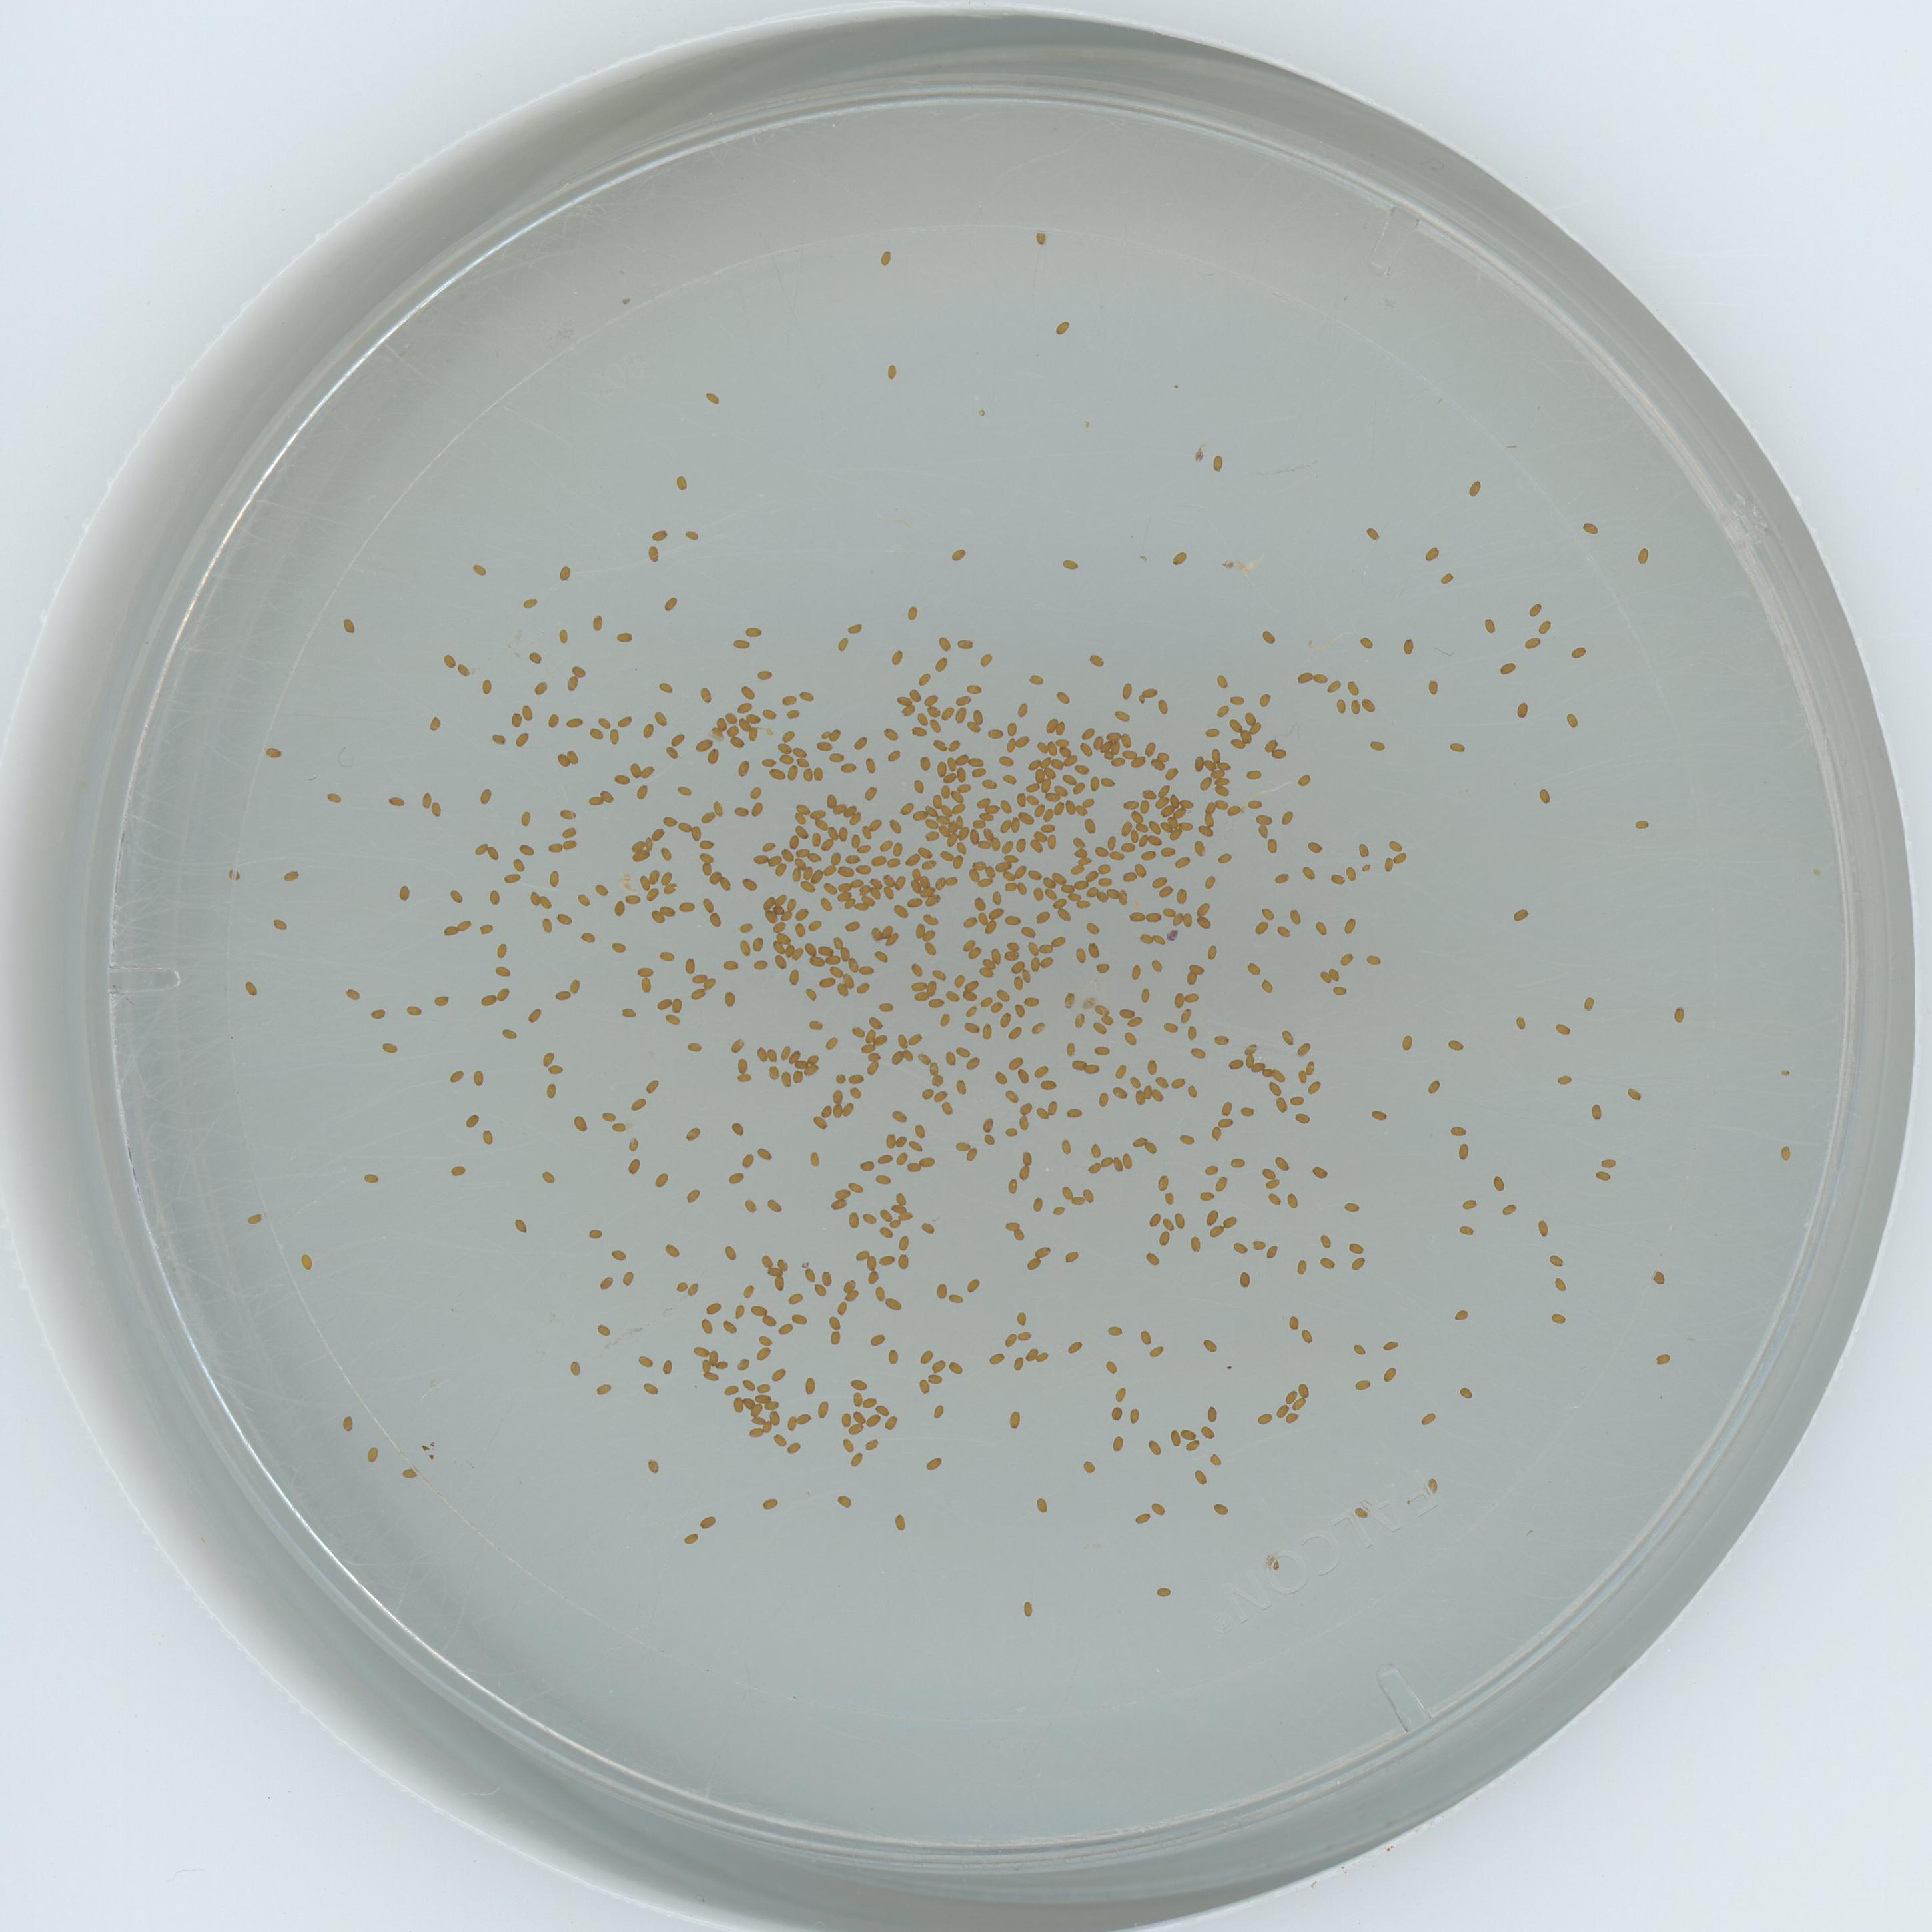seed: (633, 784, 653, 801), (740, 683, 759, 701), (695, 736, 715, 754), (571, 1113, 591, 1131), (623, 1157, 642, 1175), (890, 1513, 909, 1530), (1001, 911, 1021, 929), (1017, 924, 1037, 941), (987, 1348, 1007, 1366), (1235, 1269, 1254, 1286), (1453, 1141, 1472, 1159), (653, 709, 671, 727), (662, 594, 679, 612), (556, 909, 573, 927), (888, 817, 906, 835), (616, 628, 633, 646), (646, 545, 663, 563), (863, 757, 881, 775), (697, 685, 715, 702), (476, 787, 494, 805), (699, 1513, 717, 1530), (741, 1281, 759, 1299), (448, 1065, 465, 1083), (771, 1364, 789, 1382), (803, 1376, 821, 1394), (924, 1454, 941, 1472), (862, 1208, 879, 1226), (363, 1445, 380, 1463), (812, 1113, 830, 1131), (1582, 518, 1599, 536), (1258, 628, 1276, 646), (1194, 901, 1212, 918), (1465, 479, 1483, 497), (1169, 548, 1187, 566), (1007, 1410, 1024, 1428), (1272, 1152, 1290, 1169), (1534, 1219, 1552, 1237), (1146, 1343, 1164, 1361), (1490, 1173, 1507, 1191), (817, 899, 837, 915), (340, 617, 359, 633), (844, 918, 863, 934), (849, 1375, 869, 1391), (628, 1093, 648, 1109), (704, 1299, 724, 1315), (844, 1212, 863, 1228), (1033, 909, 1053, 925), (1039, 1077, 1058, 1093), (1288, 1090, 1307, 1106), (1380, 1366, 1399, 1382), (1109, 1083, 1129, 1099), (1279, 1030, 1299, 1046), (1116, 1003, 1136, 1019), (994, 1012, 1014, 1028), (741, 878, 759, 893), (271, 916, 288, 932), (580, 929, 598, 945), (678, 897, 695, 913), (396, 885, 412, 902), (890, 649, 908, 665), (538, 895, 556, 911), (387, 793, 405, 809), (513, 731, 531, 747), (616, 713, 633, 729), (745, 623, 763, 639), (651, 527, 669, 543), (878, 248, 895, 264), (736, 761, 754, 777), (545, 872, 563, 888), (575, 893, 593, 909), (830, 750, 847, 766), (899, 800, 916, 816), (704, 750, 722, 766), (782, 692, 800, 708), (853, 736, 870, 752), (883, 725, 901, 741), (545, 713, 563, 729), (674, 474, 692, 490), (490, 731, 508, 747), (932, 656, 950, 672), (810, 805, 828, 821), (518, 842, 536, 858), (559, 807, 577, 823), (510, 858, 527, 874), (936, 635, 954, 651), (533, 679, 550, 695), (589, 616, 607, 632), (750, 801, 768, 817), (778, 729, 796, 745), (566, 715, 584, 731), (471, 840, 488, 856), (931, 736, 948, 752), (416, 793, 432, 810), (906, 895, 924, 911), (874, 948, 892, 964), (833, 635, 851, 651), (485, 890, 502, 906), (752, 853, 770, 869), (517, 812, 534, 828), (863, 786, 881, 801), (471, 561, 488, 577), (748, 786, 766, 801), (732, 805, 750, 821), (821, 837, 837, 855), (600, 787, 617, 803), (736, 939, 754, 955), (794, 800, 812, 816), (817, 943, 835, 959), (264, 745, 281, 761), (757, 1330, 775, 1346), (540, 1047, 557, 1063), (690, 985, 708, 1001), (886, 1295, 904, 1311), (543, 1081, 561, 1097), (867, 1012, 885, 1028), (879, 1224, 897, 1240), (897, 1253, 913, 1270), (893, 1150, 911, 1166), (405, 1001, 423, 1017), (786, 1440, 803, 1456), (911, 1122, 929, 1138), (642, 1380, 660, 1396), (870, 1330, 888, 1346), (449, 1161, 467, 1177), (729, 1122, 747, 1138), (874, 1283, 890, 1300), (653, 1169, 669, 1187), (361, 1169, 379, 1185), (892, 1106, 909, 1122), (849, 1453, 867, 1468), (685, 1127, 702, 1143), (663, 1242, 681, 1258), (566, 1359, 584, 1375), (791, 1309, 809, 1325), (525, 1007, 543, 1023), (878, 998, 895, 1014), (343, 987, 361, 1003), (722, 1320, 740, 1336), (885, 1414, 902, 1430), (886, 1348, 904, 1364), (757, 1145, 775, 1161), (642, 1077, 660, 1093), (750, 1300, 768, 1316), (729, 1039, 747, 1054), (740, 1154, 757, 1169), (610, 1246, 628, 1261), (736, 1355, 754, 1371), (699, 1318, 717, 1334), (947, 1359, 964, 1375), (837, 1491, 853, 1509), (672, 1277, 690, 1293), (840, 1437, 858, 1453), (660, 1357, 676, 1375), (763, 1493, 780, 1509), (862, 1392, 879, 1408), (849, 1069, 867, 1085), (761, 1313, 778, 1329), (1244, 796, 1261, 812), (1345, 679, 1362, 695), (1258, 906, 1276, 922), (1286, 909, 1304, 925), (1053, 318, 1070, 334), (1569, 644, 1587, 660), (996, 754, 1014, 770), (1012, 702, 1030, 718), (1139, 683, 1157, 699), (1311, 920, 1329, 936), (1244, 766, 1261, 782), (1173, 856, 1191, 872), (1368, 738, 1385, 754), (1060, 556, 1077, 571), (1361, 695, 1376, 713), (1215, 851, 1233, 867), (1513, 906, 1530, 922), (1536, 619, 1553, 635), (1422, 545, 1440, 561), (1306, 840, 1323, 856), (1338, 948, 1355, 964), (1564, 713, 1582, 729), (1085, 941, 1100, 959), (1127, 908, 1145, 924), (1116, 683, 1134, 699), (1499, 660, 1516, 676), (1525, 635, 1543, 651), (1536, 789, 1553, 805), (1274, 924, 1292, 939), (1152, 699, 1169, 715), (1053, 690, 1070, 706), (996, 798, 1014, 814), (1171, 888, 1189, 904), (1023, 938, 1039, 955), (1148, 957, 1164, 975), (1201, 1159, 1219, 1175), (1348, 1254, 1366, 1270), (1024, 1254, 1042, 1270), (1212, 1500, 1230, 1516), (1447, 1037, 1465, 1053), (1346, 1238, 1364, 1254), (1030, 1021, 1047, 1037), (1461, 1194, 1479, 1210), (1453, 1306, 1470, 1322), (1031, 1497, 1049, 1513), (1003, 1088, 1021, 1104), (1145, 1438, 1162, 1454), (1031, 1063, 1049, 1079), (1003, 1177, 1021, 1192), (1060, 993, 1077, 1008), (1316, 1233, 1334, 1249), (1424, 1477, 1440, 1495), (1201, 1210, 1219, 1226), (1007, 1056, 1024, 1072), (1555, 1069, 1573, 1085), (1141, 1058, 1159, 1074), (1065, 1338, 1083, 1353), (1265, 1191, 1283, 1207), (1012, 1070, 1030, 1086), (1589, 1102, 1606, 1118), (1272, 1095, 1290, 1111), (1421, 1408, 1438, 1424), (1108, 1435, 1125, 1451), (1033, 1242, 1051, 1258), (1010, 1001, 1028, 1017), (1309, 1162, 1327, 1178), (1449, 1122, 1467, 1138), (1318, 1254, 1336, 1270), (1198, 1424, 1215, 1440), (1083, 1060, 1100, 1076), (1295, 1042, 1313, 1058), (1230, 1238, 1247, 1254), (1293, 1109, 1311, 1125), (1398, 1035, 1415, 1051), (1143, 1249, 1161, 1265), (1548, 1253, 1566, 1269), (1092, 1039, 1109, 1054), (1343, 1198, 1361, 1214), (1651, 1269, 1668, 1284), (1063, 1104, 1081, 1120), (966, 1276, 982, 1293), (1511, 1014, 1529, 1030), (1111, 1062, 1129, 1077), (1182, 971, 1200, 987), (761, 706, 780, 720), (833, 1187, 853, 1201), (1157, 846, 1177, 860), (708, 911, 724, 927), (761, 837, 777, 853), (929, 718, 945, 734), (564, 676, 580, 692), (441, 653, 456, 669), (770, 768, 786, 784), (701, 897, 717, 913), (556, 564, 571, 580), (909, 685, 925, 701), (651, 828, 667, 844), (947, 736, 962, 752), (734, 637, 750, 653), (671, 731, 686, 747), (761, 754, 777, 770), (924, 692, 939, 708), (662, 812, 678, 828), (918, 755, 934, 771), (893, 904, 909, 920), (794, 743, 810, 759), (658, 679, 674, 695), (448, 890, 464, 906), (556, 628, 571, 644), (888, 748, 904, 764), (571, 662, 587, 678), (586, 794, 602, 810), (701, 810, 717, 826), (487, 846, 502, 862), (610, 901, 626, 916), (426, 715, 442, 731), (839, 863, 855, 879), (740, 918, 755, 934), (478, 920, 494, 936), (663, 747, 679, 763), (563, 839, 579, 855), (885, 363, 901, 379), (538, 916, 554, 932), (640, 724, 656, 740), (823, 793, 839, 809), (508, 713, 524, 729), (904, 605, 920, 621), (720, 878, 736, 893), (750, 936, 766, 952), (646, 888, 662, 904), (916, 844, 932, 860), (805, 939, 821, 955), (566, 750, 582, 766), (554, 754, 570, 770), (713, 801, 729, 817), (828, 849, 844, 865), (635, 876, 651, 892), (709, 727, 725, 743), (663, 883, 679, 899), (909, 879, 925, 895), (479, 991, 495, 1007), (809, 1016, 824, 1031), (849, 1023, 865, 1039), (242, 980, 258, 996), (725, 1380, 741, 1396), (920, 1083, 936, 1099), (685, 1529, 701, 1545), (771, 1433, 787, 1449), (881, 1251, 897, 1267), (724, 1244, 740, 1260), (729, 1169, 745, 1185), (931, 1357, 947, 1373), (646, 1458, 662, 1474), (471, 1067, 487, 1083), (692, 1341, 708, 1357), (824, 1033, 840, 1049), (918, 1346, 934, 1362), (821, 1270, 837, 1286), (380, 1037, 396, 1053), (909, 1136, 925, 1152), (621, 1003, 637, 1019), (688, 1281, 704, 1297), (849, 1083, 865, 1099), (541, 1168, 557, 1184), (596, 1322, 612, 1338), (598, 1276, 614, 1292), (856, 980, 872, 996), (474, 1139, 490, 1155), (816, 1401, 832, 1417), (828, 1315, 844, 1330), (920, 1152, 936, 1168), (587, 1224, 603, 1240), (479, 1129, 495, 1145), (847, 1180, 863, 1196), (934, 1283, 950, 1299), (915, 1378, 931, 1394), (945, 987, 961, 1003), (686, 1039, 702, 1054), (602, 1106, 617, 1122), (626, 1136, 642, 1152), (832, 1198, 847, 1214), (734, 1058, 750, 1074), (807, 1152, 823, 1168), (639, 977, 655, 993), (513, 1217, 529, 1233), (803, 987, 819, 1003), (787, 970, 803, 985), (931, 1403, 947, 1419), (812, 1283, 828, 1299), (909, 962, 925, 978), (828, 1329, 844, 1345), (895, 1233, 911, 1249), (837, 1300, 853, 1316), (939, 1099, 955, 1115), (888, 1049, 904, 1065), (853, 1408, 869, 1424), (1527, 602, 1543, 617), (1115, 708, 1131, 724), (1438, 570, 1454, 586), (1364, 525, 1380, 541), (1341, 918, 1357, 934), (1207, 747, 1223, 763), (1300, 867, 1316, 883), (1256, 692, 1272, 708), (1635, 548, 1651, 564), (987, 725, 1003, 741), (1001, 771, 1017, 787), (1481, 617, 1497, 633), (977, 653, 993, 669), (1042, 718, 1058, 734), (1343, 867, 1359, 883), (1123, 796, 1139, 812), (971, 897, 987, 913), (1366, 950, 1382, 966), (1392, 853, 1408, 869), (1122, 869, 1138, 885), (1253, 920, 1269, 936), (1424, 679, 1440, 695), (1330, 697, 1346, 713), (1228, 692, 1244, 708), (1449, 740, 1465, 755), (1325, 678, 1341, 694), (1214, 674, 1230, 690), (1357, 635, 1373, 651), (1514, 702, 1530, 718), (1196, 915, 1212, 931), (1028, 867, 1044, 883), (1116, 823, 1132, 839), (1017, 810, 1033, 826), (1226, 718, 1242, 734), (1031, 230, 1047, 246), (1136, 798, 1152, 814), (1028, 839, 1044, 855), (1056, 720, 1072, 736), (1010, 793, 1026, 809), (1261, 736, 1277, 752), (977, 876, 993, 892), (1223, 1212, 1238, 1228), (1120, 1028, 1136, 1044), (1555, 1021, 1571, 1037), (1154, 1173, 1169, 1189), (1012, 1309, 1028, 1325), (1284, 1315, 1300, 1330), (1184, 1026, 1200, 1042), (1108, 1405, 1123, 1421), (1028, 1196, 1044, 1212), (1150, 1500, 1166, 1516), (1184, 989, 1200, 1005), (1021, 1601, 1037, 1617), (1136, 987, 1152, 1003), (1017, 1099, 1033, 1115), (1154, 1072, 1169, 1088), (1171, 993, 1187, 1008), (1106, 1322, 1122, 1338), (1049, 1201, 1065, 1217), (1001, 1332, 1017, 1348), (1214, 1177, 1230, 1192), (1187, 1235, 1203, 1251), (1601, 1152, 1617, 1168), (1284, 1191, 1300, 1207), (1672, 1007, 1688, 1023), (1214, 1031, 1230, 1047), (1162, 1019, 1178, 1035), (1125, 1407, 1141, 1422), (1299, 1327, 1315, 1343), (993, 1067, 1008, 1083), (1191, 1468, 1207, 1484), (1656, 1350, 1672, 1366), (1352, 1504, 1368, 1520), (1371, 1108, 1387, 1123), (1293, 1258, 1309, 1274), (1155, 1230, 1171, 1246), (1136, 1329, 1152, 1345), (1185, 1083, 1201, 1099), (1017, 1164, 1033, 1180), (1306, 1077, 1322, 1093), (1155, 1582, 1171, 1598), (980, 1023, 996, 1039), (1203, 1405, 1219, 1421), (1145, 1210, 1161, 1226), (1058, 1138, 1074, 1154), (1458, 1385, 1474, 1401), (1007, 1026, 1023, 1042), (1201, 1338, 1217, 1353), (1352, 1341, 1368, 1357), (1017, 1148, 1033, 1164), (1458, 1221, 1474, 1237), (1056, 1182, 1072, 1198), (1552, 1276, 1568, 1292), (1217, 1100, 1233, 1116), (1251, 1235, 1267, 1251), (1238, 1100, 1254, 1116), (1062, 1247, 1077, 1263), (1256, 1410, 1272, 1426), (1207, 1451, 1223, 1467), (1628, 1085, 1644, 1100), (1198, 1187, 1214, 1203), (1062, 1039, 1077, 1054), (964, 1019, 980, 1035), (1109, 1385, 1125, 1401), (1778, 1146, 1794, 1162), (1265, 1555, 1281, 1571), (1010, 959, 1026, 975), (943, 874, 961, 888), (587, 727, 605, 741), (757, 669, 775, 683), (911, 725, 929, 740), (676, 786, 694, 800), (625, 892, 642, 906), (478, 679, 495, 694), (798, 688, 816, 702), (911, 780, 929, 794), (547, 842, 564, 856), (798, 879, 816, 893), (704, 391, 722, 405), (456, 916, 474, 931), (492, 943, 510, 957), (809, 918, 826, 932), (821, 881, 839, 895), (633, 851, 651, 865), (520, 706, 538, 720), (660, 904, 678, 918), (736, 699, 754, 713), (922, 941, 939, 955), (939, 706, 957, 720), (925, 830, 943, 844), (630, 839, 648, 853), (809, 851, 826, 865), (729, 736, 747, 750), (925, 704, 943, 718), (741, 1196, 759, 1210), (637, 1353, 655, 1368), (663, 1012, 681, 1026), (876, 1171, 893, 1185), (547, 1062, 564, 1076), (787, 1290, 805, 1304), (778, 1322, 796, 1336), (619, 1270, 637, 1284), (741, 1376, 759, 1391), (755, 1346, 773, 1361), (867, 1269, 885, 1283), (798, 1410, 816, 1424), (340, 1415, 357, 1430), (766, 1198, 784, 1212), (748, 1426, 766, 1440), (736, 1070, 754, 1085), (754, 1044, 768, 1062), (867, 1060, 881, 1077), (610, 1120, 628, 1134), (782, 1415, 800, 1430), (731, 1398, 745, 1415), (878, 1208, 895, 1223), (911, 978, 929, 993), (929, 1074, 947, 1088), (1143, 909, 1161, 924), (1139, 849, 1157, 863), (980, 777, 998, 791), (1272, 872, 1290, 886), (1224, 805, 1242, 819), (1269, 748, 1286, 763), (1327, 874, 1345, 888), (1074, 763, 1092, 777), (1070, 835, 1088, 849), (982, 922, 1000, 936), (1277, 812, 1295, 826), (1240, 711, 1258, 725), (1192, 840, 1207, 858), (1051, 870, 1069, 885), (1212, 786, 1230, 800), (1095, 862, 1113, 876), (1228, 1154, 1246, 1168), (1550, 1309, 1568, 1323), (1580, 996, 1598, 1010), (1330, 982, 1348, 996), (996, 987, 1014, 1001), (1500, 1201, 1518, 1215), (1594, 1168, 1612, 1182), (1177, 1132, 1194, 1146), (1047, 1099, 1062, 1116), (1090, 1021, 1108, 1035), (1189, 1044, 1207, 1058), (1353, 1376, 1371, 1391), (1003, 1215, 1021, 1230), (1070, 1014, 1088, 1028), (1265, 1081, 1283, 1095), (1023, 994, 1040, 1008), (1067, 1192, 1085, 1207), (1258, 978, 1276, 993), (1244, 961, 1261, 975), (977, 994, 994, 1008), (957, 637, 977, 649), (826, 966, 846, 978), (561, 824, 577, 839), (522, 596, 538, 610), (504, 874, 520, 888), (906, 853, 922, 867), (527, 651, 543, 665), (610, 941, 626, 955), (842, 761, 858, 775), (455, 663, 471, 678), (950, 547, 966, 561), (525, 892, 540, 908), (786, 708, 801, 722), (872, 853, 888, 867), (847, 621, 863, 635), (858, 863, 874, 878), (916, 671, 932, 685), (924, 927, 939, 941), (594, 885, 610, 899), (642, 763, 656, 778), (869, 925, 885, 939), (929, 793, 945, 807), (658, 847, 674, 862), (607, 731, 623, 745), (773, 920, 789, 934), (685, 527, 701, 541), (950, 856, 966, 870), (849, 833, 863, 849), (892, 842, 908, 856), (428, 803, 444, 817), (442, 924, 458, 938), (596, 715, 612, 729), (817, 740, 833, 754), (793, 922, 809, 936), (883, 920, 897, 936), (897, 694, 913, 708), (324, 791, 340, 805), (747, 727, 763, 741), (699, 839, 715, 853), (699, 851, 715, 865), (934, 761, 948, 777), (794, 908, 810, 922), (810, 869, 824, 885), (830, 727, 846, 741), (886, 855, 901, 870), (943, 771, 957, 787), (911, 924, 925, 939), (833, 801, 849, 816), (915, 713, 931, 727), (819, 727, 833, 743), (556, 987, 571, 1001), (920, 1219, 936, 1233), (876, 1401, 892, 1415), (759, 1253, 775, 1267), (909, 1031, 925, 1046), (929, 994, 945, 1008), (596, 1380, 612, 1394), (704, 1369, 720, 1384), (433, 993, 449, 1007), (878, 1150, 893, 1164), (819, 975, 835, 989), (715, 1357, 731, 1371), (502, 1024, 518, 1039), (402, 1465, 418, 1479), (860, 1157, 876, 1171), (925, 980, 939, 996), (948, 1290, 964, 1304), (771, 1277, 787, 1292), (867, 1412, 883, 1426), (495, 966, 511, 980), (685, 1189, 701, 1203), (895, 1033, 911, 1047), (568, 978, 584, 993), (839, 1412, 853, 1428), (370, 1007, 386, 1021), (697, 1357, 713, 1371), (766, 1063, 782, 1077), (932, 968, 948, 982), (835, 984, 851, 998), (777, 1254, 791, 1270), (952, 1077, 966, 1093), (821, 1100, 835, 1116), (842, 1277, 858, 1292), (844, 1102, 860, 1116), (849, 1422, 865, 1437), (732, 1304, 748, 1318), (803, 1267, 819, 1281), (883, 1132, 897, 1148), (853, 1247, 869, 1261), (847, 1392, 863, 1407), (780, 1070, 794, 1086), (724, 993, 740, 1007), (805, 1065, 821, 1079), (833, 1070, 849, 1085), (770, 1410, 784, 1426), (768, 1044, 782, 1060), (768, 1265, 784, 1279), (778, 1046, 793, 1062), (248, 1212, 264, 1226), (955, 1044, 970, 1060), (1100, 777, 1116, 791), (1387, 839, 1403, 853), (1083, 817, 1097, 833), (1085, 920, 1099, 936), (1254, 810, 1270, 824), (1162, 766, 1178, 780), (1214, 704, 1230, 718), (1141, 741, 1155, 757), (1265, 840, 1281, 855), (1297, 669, 1311, 685), (1399, 639, 1415, 653), (1014, 734, 1030, 748), (1201, 876, 1217, 890), (998, 840, 1014, 855), (989, 892, 1005, 906), (1086, 653, 1102, 667), (1079, 725, 1095, 740), (1254, 824, 1269, 840), (1026, 672, 1042, 686), (970, 708, 985, 722), (1203, 725, 1219, 740), (1003, 722, 1019, 736), (1295, 773, 1311, 787), (1092, 844, 1108, 858), (1198, 824, 1214, 839), (1311, 671, 1327, 685), (1182, 913, 1196, 929), (1150, 874, 1166, 888), (1138, 786, 1154, 800), (1146, 835, 1162, 849), (1357, 842, 1371, 858), (1086, 777, 1100, 793), (966, 681, 982, 695), (1359, 862, 1375, 876), (1155, 782, 1169, 798), (1346, 699, 1361, 715), (1635, 817, 1651, 832), (1378, 858, 1394, 872), (1189, 755, 1203, 771), (1012, 837, 1026, 853), (1053, 736, 1069, 750), (1249, 722, 1265, 736), (1077, 743, 1093, 757), (1134, 863, 1148, 879), (1023, 782, 1039, 796), (1014, 865, 1030, 879), (1039, 755, 1053, 771), (1104, 835, 1118, 851), (975, 913, 989, 929), (1010, 1357, 1026, 1371), (1169, 1074, 1185, 1088), (1127, 1014, 1143, 1028), (1177, 1008, 1192, 1023), (1016, 1327, 1031, 1341), (1069, 1056, 1085, 1070), (1382, 1338, 1398, 1352), (1426, 1081, 1442, 1095), (1208, 1224, 1224, 1238), (1207, 1125, 1223, 1139), (1145, 1141, 1161, 1155), (1125, 1072, 1141, 1086), (1161, 1189, 1175, 1205), (1304, 1058, 1318, 1074), (1217, 1115, 1233, 1129), (1274, 1403, 1288, 1419), (1134, 1511, 1150, 1525), (1102, 1359, 1118, 1373), (1180, 1426, 1196, 1440), (1079, 1460, 1095, 1474), (978, 966, 994, 980), (1031, 1106, 1047, 1120), (1095, 1092, 1111, 1106), (1016, 1115, 1031, 1129), (1122, 1152, 1136, 1168), (1261, 1164, 1277, 1178), (1166, 1430, 1180, 1445), (1330, 966, 1345, 982), (966, 1145, 980, 1161), (1263, 1244, 1279, 1258), (1184, 1440, 1200, 1454), (1272, 1069, 1288, 1083), (987, 998, 1003, 1012), (299, 1254, 315, 1269), (908, 867, 924, 881), (920, 886, 936, 901), (955, 826, 970, 842), (901, 706, 918, 718), (847, 853, 865, 865), (839, 824, 851, 842), (886, 934, 904, 947), (938, 1012, 950, 1030), (685, 957, 697, 975), (1155, 886, 1173, 899), (1212, 455, 1224, 472), (1031, 888, 1044, 906), (1054, 909, 1072, 922), (1120, 731, 1132, 748), (1060, 773, 1077, 786), (1001, 853, 1019, 865), (1118, 888, 1131, 906), (1093, 1001, 1111, 1014), (1263, 1177, 1281, 1189), (1175, 1212, 1187, 1230), (1283, 1412, 1300, 1424), (964, 1056, 982, 1069), (1162, 1215, 1175, 1233), (1111, 1155, 1123, 1173), (1187, 962, 1207, 973), (925, 895, 939, 909), (939, 849, 954, 863), (879, 839, 893, 853), (870, 817, 885, 832), (708, 872, 722, 886), (628, 763, 642, 777), (768, 853, 782, 867), (924, 858, 938, 872), (796, 824, 810, 839), (690, 828, 704, 842), (895, 876, 909, 890), (832, 934, 846, 948), (778, 741, 793, 755), (814, 819, 828, 833), (862, 826, 876, 840), (747, 711, 761, 725), (761, 895, 775, 909), (955, 694, 970, 708), (801, 770, 816, 784), (952, 801, 966, 816), (495, 987, 510, 1001), (704, 975, 718, 989), (952, 973, 966, 987), (934, 1086, 948, 1100), (832, 1090, 846, 1104), (895, 1191, 909, 1205), (915, 991, 929, 1005), (787, 1051, 801, 1065), (863, 1028, 878, 1042), (952, 1136, 966, 1150), (1198, 777, 1212, 791), (1026, 757, 1040, 771), (1001, 879, 1016, 893), (1070, 784, 1085, 798), (1090, 736, 1104, 750), (1120, 842, 1134, 856), (1001, 740, 1016, 754), (966, 870, 980, 885), (982, 828, 996, 842), (971, 858, 985, 872), (1007, 938, 1021, 952), (1081, 796, 1095, 810), (968, 722, 982, 736), (1040, 876, 1054, 890), (1205, 945, 1219, 959), (1062, 801, 1076, 816), (1129, 809, 1143, 823), (1230, 738, 1244, 752), (987, 948, 1001, 962), (984, 865, 998, 879), (1318, 970, 1332, 984), (1099, 1154, 1113, 1168), (1293, 1069, 1307, 1083), (1297, 1382, 1311, 1396), (1088, 1143, 1102, 1157), (982, 1116, 996, 1131), (1035, 1350, 1049, 1364), (1152, 1088, 1166, 1102), (1131, 1090, 1145, 1104), (1023, 1346, 1037, 1361), (1081, 1187, 1095, 1201), (964, 1003, 978, 1017), (962, 989, 977, 1003), (1284, 1389, 1299, 1403), (750, 1403, 764, 1417), (791, 947, 805, 961), (1138, 932, 1152, 947), (1152, 932, 1166, 947), (1044, 766, 1058, 780), (955, 754, 970, 768), (736, 717, 750, 731), (616, 775, 632, 787), (283, 870, 299, 883), (924, 913, 939, 925), (649, 869, 662, 885), (793, 812, 809, 824), (777, 932, 793, 945), (911, 810, 927, 823), (810, 833, 823, 849), (773, 957, 789, 970), (724, 959, 740, 971), (672, 998, 685, 1014), (945, 1051, 957, 1067), (656, 998, 672, 1010), (906, 1161, 922, 1173), (899, 1210, 915, 1223), (692, 971, 708, 984), (755, 1382, 771, 1394), (987, 908, 1003, 920), (1155, 750, 1171, 763), (971, 768, 987, 780), (1037, 941, 1053, 954), (970, 830, 982, 846), (1109, 851, 1125, 863), (1069, 865, 1085, 878), (1178, 798, 1194, 810), (1031, 805, 1047, 817), (1146, 821, 1162, 833), (1042, 888, 1058, 901), (1097, 876, 1113, 888), (1053, 801, 1065, 817), (1203, 810, 1215, 826), (1214, 798, 1230, 810), (1039, 824, 1054, 837), (1132, 1136, 1148, 1148), (1228, 1058, 1244, 1070), (1012, 975, 1024, 991), (1085, 1162, 1100, 1175), (1023, 970, 1035, 985), (1010, 1230, 1026, 1242), (226, 869, 242, 881), (839, 947, 851, 962), (1201, 759, 1217, 771), (1208, 768, 1224, 780), (1214, 775, 1230, 787), (1171, 913, 1184, 929), (1099, 741, 1115, 754), (1058, 747, 1074, 759), (968, 754, 984, 766), (658, 952, 676, 962), (642, 835, 653, 853), (904, 1047, 915, 1065), (1076, 947, 1086, 964), (1178, 821, 1196, 832), (994, 862, 1012, 872), (1028, 955, 1039, 973), (1131, 964, 1141, 982), (883, 888, 897, 901), (860, 844, 874, 856), (678, 821, 692, 833), (771, 941, 786, 954), (764, 911, 778, 924), (816, 768, 828, 782), (777, 865, 791, 878), (787, 766, 800, 780), (823, 865, 837, 878), (787, 835, 801, 847), (782, 849, 796, 862), (791, 869, 803, 883), (754, 959, 768, 971), (849, 814, 863, 826), (651, 911, 665, 924), (713, 718, 727, 731), (701, 863, 713, 878), (938, 786, 952, 798), (839, 881, 853, 893), (920, 876, 934, 888), (895, 1134, 909, 1146), (865, 1258, 879, 1270), (929, 1373, 943, 1385), (865, 1438, 879, 1451), (876, 1031, 890, 1044), (842, 975, 855, 989), (918, 1053, 932, 1065), (793, 1069, 805, 1083), (977, 796, 991, 809), (1148, 759, 1162, 771), (1161, 906, 1175, 918), (1014, 883, 1028, 895), (1106, 729, 1120, 741), (1044, 837, 1058, 849), (1131, 759, 1145, 771), (1035, 740, 1047, 754), (968, 947, 982, 959), (1024, 794, 1039, 807), (1060, 883, 1074, 895), (1168, 830, 1182, 842), (1069, 892, 1083, 904), (1240, 729, 1253, 743), (1003, 1125, 1017, 1138), (984, 1132, 996, 1146), (1244, 1053, 1256, 1067), (1292, 1398, 1306, 1410), (1261, 1065, 1276, 1077), (966, 978, 980, 991), (741, 1398, 755, 1410), (761, 1421, 773, 1435), (869, 888, 883, 901), (961, 939, 975, 952), (1106, 888, 1120, 901), (1097, 890, 1109, 904), (1129, 828, 1141, 842), (1136, 833, 1148, 847), (1251, 1062, 1265, 1074), (1031, 770, 1044, 784), (1040, 778, 1053, 793), (858, 966, 878, 975), (796, 759, 812, 770), (955, 708, 966, 724), (828, 826, 839, 842), (957, 768, 968, 784), (847, 957, 858, 973), (755, 1392, 771, 1403), (846, 1290, 862, 1300), (764, 1401, 780, 1412), (805, 1054, 821, 1065), (862, 1044, 878, 1054), (1109, 759, 1125, 770), (970, 819, 985, 830), (1049, 936, 1065, 947), (1219, 761, 1235, 771), (1010, 817, 1021, 833), (1118, 748, 1134, 759), (1063, 755, 1079, 766), (1047, 740, 1058, 755), (982, 957, 998, 968), (1134, 823, 1150, 833), (1100, 1014, 1116, 1024), (1095, 962, 1111, 973), (849, 879, 865, 890), (837, 892, 853, 902), (924, 819, 939, 830), (936, 816, 952, 826), (1171, 807, 1187, 817), (833, 1102, 844, 1118), (950, 791, 966, 801), (725, 725, 741, 736), (1074, 849, 1092, 858), (786, 899, 798, 911), (934, 878, 947, 890), (725, 711, 738, 724), (662, 872, 674, 885), (796, 858, 809, 870), (798, 847, 810, 860), (1083, 888, 1095, 901), (1076, 803, 1088, 816), (1168, 794, 1180, 807), (1159, 805, 1171, 817), (1040, 957, 1053, 970), (1086, 870, 1099, 883), (782, 945, 794, 957), (773, 904, 786, 916), (1780, 1067, 1792, 1079), (778, 755, 793, 766), (883, 874, 893, 888), (826, 955, 840, 966), (810, 955, 824, 966), (955, 842, 966, 856), (957, 784, 971, 794), (869, 878, 883, 888), (947, 833, 957, 847), (925, 807, 939, 817), (752, 1415, 766, 1426), (927, 1063, 941, 1074), (1076, 899, 1090, 909), (947, 757, 957, 771), (1044, 793, 1058, 803), (1053, 899, 1067, 909), (985, 805, 1000, 816), (1000, 819, 1010, 833), (1074, 879, 1088, 890), (1030, 832, 1044, 842), (1244, 1044, 1258, 1054), (855, 901, 869, 911), (862, 895, 876, 906), (858, 885, 872, 895), (842, 899, 856, 909), (941, 807, 955, 817), (1005, 950, 1019, 961), (803, 867, 814, 881), (1044, 809, 1054, 823), (991, 837, 1001, 851), (637, 968, 653, 977), (867, 1053, 883, 1062), (1143, 1083, 1152, 1099), (775, 895, 787, 906), (844, 807, 856, 817), (890, 1219, 902, 1230), (893, 1203, 906, 1214), (1051, 759, 1063, 770), (1054, 786, 1067, 796), (1155, 798, 1168, 809), (966, 918, 977, 931), (1203, 803, 1215, 814), (794, 1060, 807, 1070), (1168, 817, 1178, 830), (1159, 821, 1171, 832), (939, 824, 950, 837), (978, 840, 991, 851), (782, 911, 793, 924), (709, 1352, 718, 1366), (955, 816, 964, 830), (1111, 741, 1120, 755), (980, 812, 994, 821), (1077, 858, 1093, 865), (948, 821, 957, 833), (1102, 752, 1115, 761), (1138, 694, 1146, 704), (1003, 872, 1016, 879)
